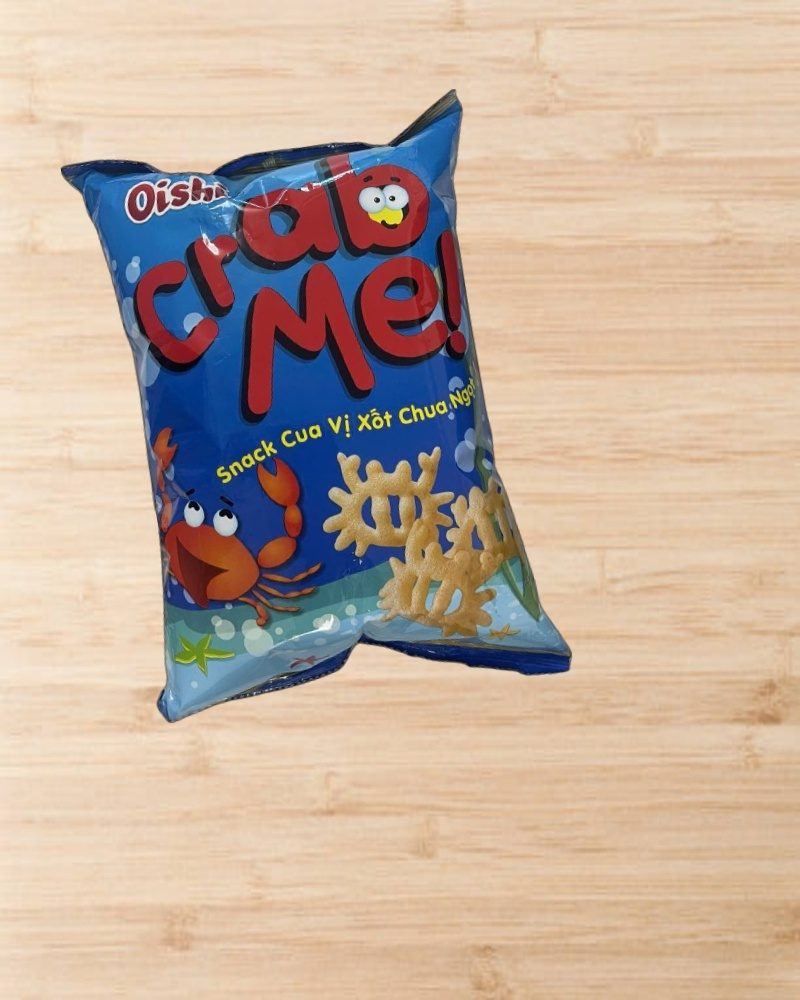Snack chay: (60, 87, 575, 745)
